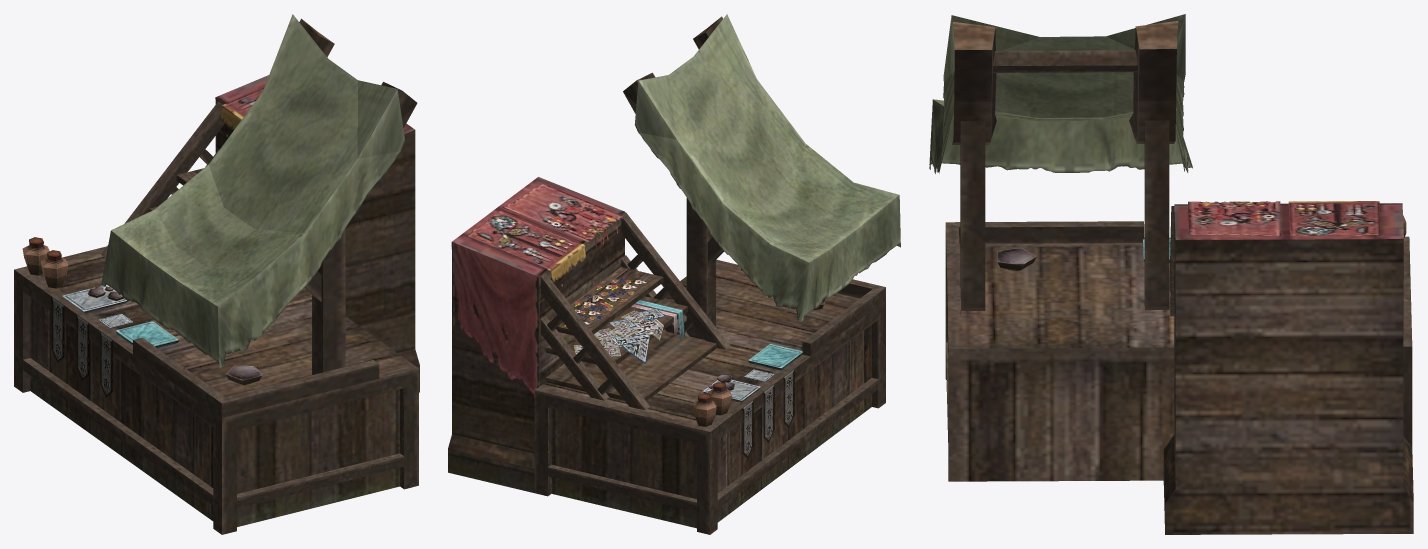
File: 饰品摊01.fbx
The picture shows the model from 3 angles, left to right: view 1: azimuth 30°, elevation 25°; view 2: azimuth 150°, elevation 25°; view 3: azimuth 270°, elevation 25°; orthographic projection. The views are drawn at different scales.
Visible parts, largest first — view 1: qingmo_obj_265 [10484747]; view 2: qingmo_obj_265 [10484747]; view 3: qingmo_obj_265 [10484747].
Part boxes in pixels (x1,y1,x2,y2): qingmo_obj_265 [10484747]: [14, 14, 419, 534]; qingmo_obj_265 [10484747]: [448, 14, 900, 534]; qingmo_obj_265 [10484747]: [929, 14, 1413, 534].
Bounding box in the file's own units: 17.31 × 20.87 × 21.64.
1 material, 1 textured.
